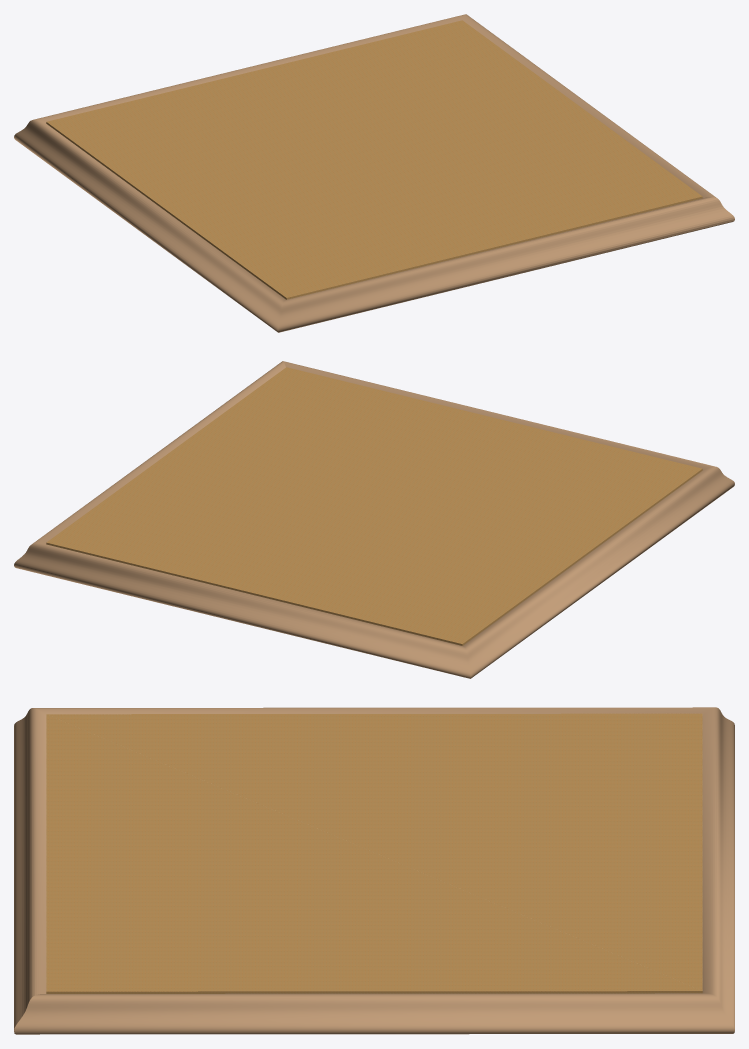
The model's file is tabuleiro.fbx.
The picture shows the model from 3 angles, top to bottom: view 1: azimuth 30°, elevation 25°; view 2: azimuth 150°, elevation 25°; view 3: azimuth 270°, elevation 25°; orthographic projection. The views are drawn at different scales.
Parts seen in each view (by area): view 1: Desk, Line01; view 2: Desk, Line01; view 3: Desk, Line01.
Boxes of the visible parts, x1,y1,x2,y2 form: Desk: (46, 20, 702, 299); Line01: (14, 14, 734, 332); Desk: (46, 367, 702, 645); Line01: (14, 361, 734, 678); Desk: (46, 713, 702, 993); Line01: (14, 707, 734, 1034).
Size of the model in its own units: 1364 by 70.26 by 1364.
